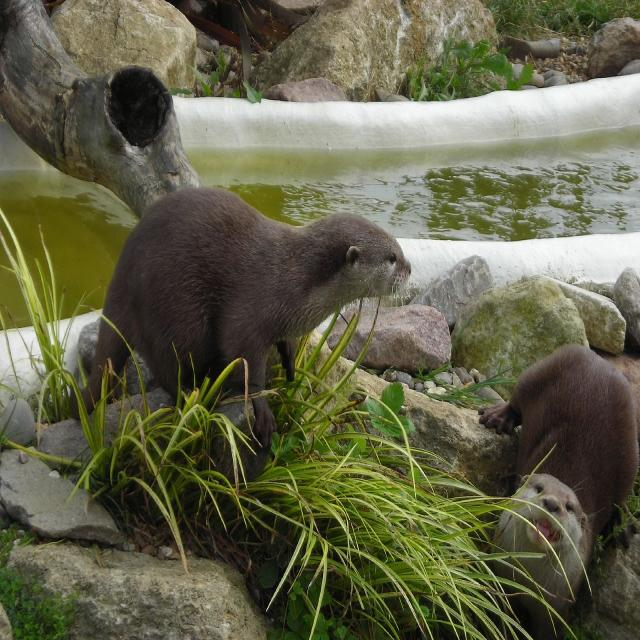otter: (79, 187, 411, 418), (478, 347, 639, 611)
